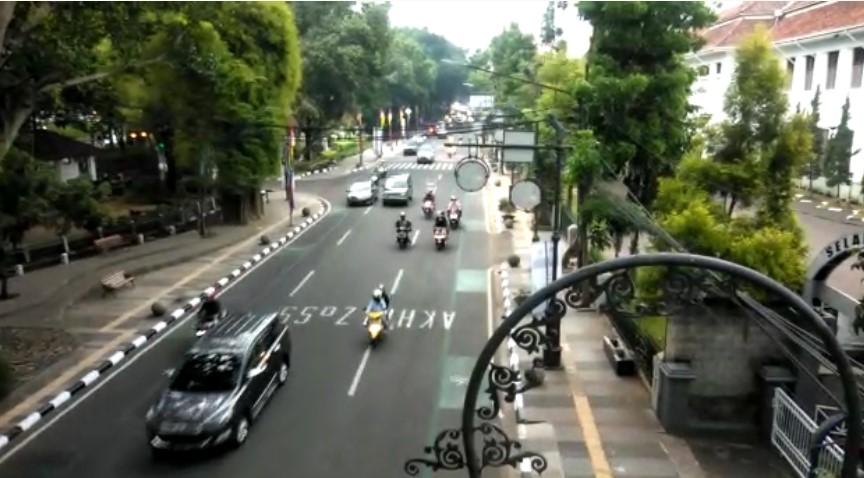mobil: (142, 312, 301, 453), (342, 179, 380, 206), (380, 174, 412, 204)
motor: (360, 283, 401, 348), (185, 288, 226, 338), (394, 212, 418, 245), (431, 211, 448, 252), (444, 197, 462, 224), (421, 190, 438, 215)
